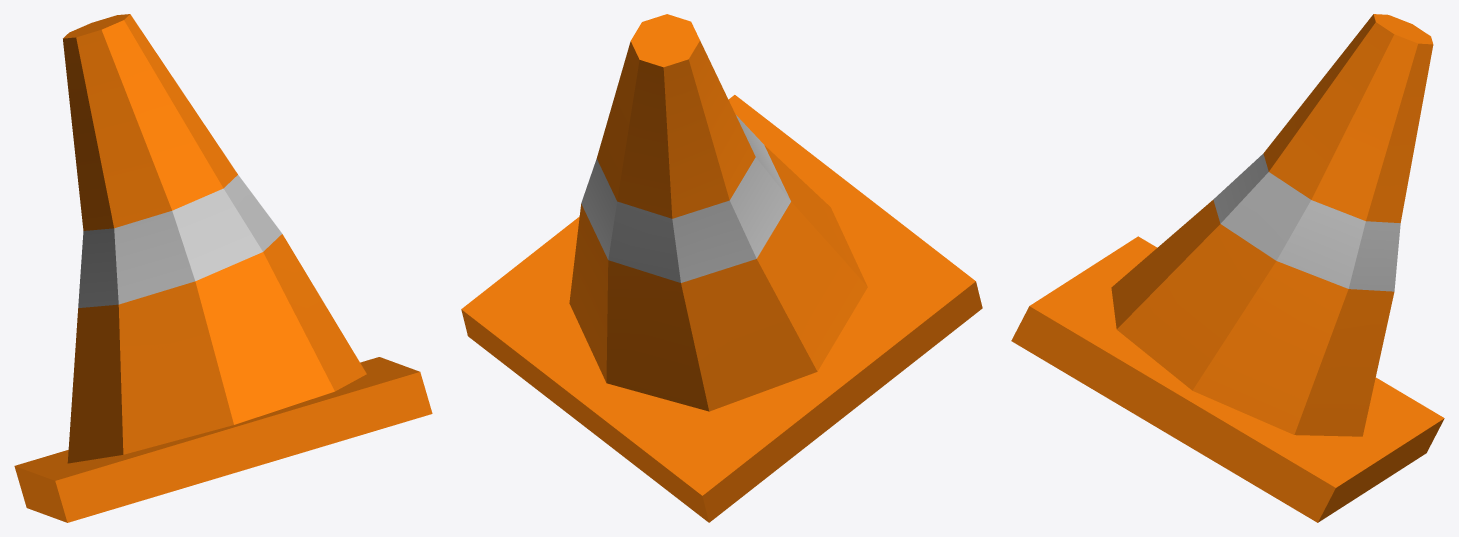
Rendered from hat-miner.glb.
3 views of the same model, side by side, from view 1: azimuth 30°, elevation 25°; view 2: azimuth 150°, elevation 25°; view 3: azimuth 270°, elevation 25° (orthographic). The views are drawn at different scales.
Visible parts, largest first — view 1: Hat; view 2: Hat; view 3: Hat.
Part boxes in pixels (left/top/right/bottom): Hat: left=14, top=14, right=432, bottom=522; Hat: left=461, top=14, right=982, bottom=522; Hat: left=1011, top=14, right=1444, bottom=522.
Size of the model in its own units: 0.5245 by 0.5698 by 0.4829.
Materials: 1 (1 with a texture image).
